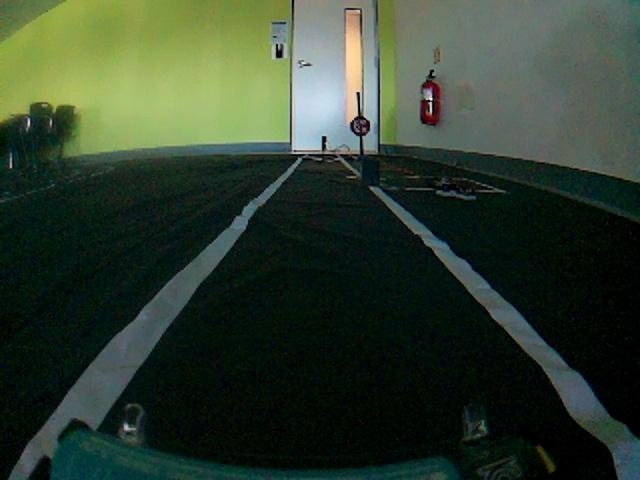go: (87, 191, 610, 480)
